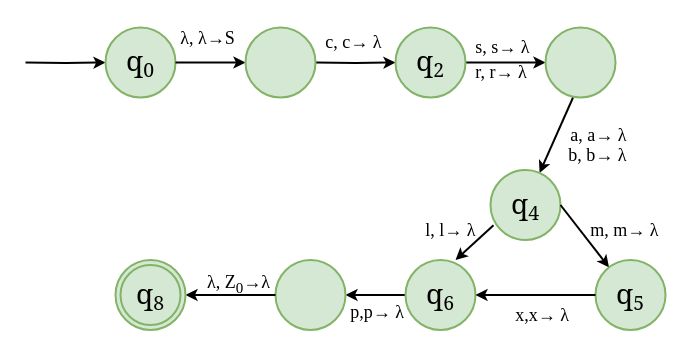
The diagram is 683 pixels wide and 353 high, and some of its shapes have lost their labels. Each missing label, with the box of its shape:
q 1: (244, 26, 316, 98)
q 3: (544, 26, 616, 98)
q 7: (274, 258, 346, 330)
